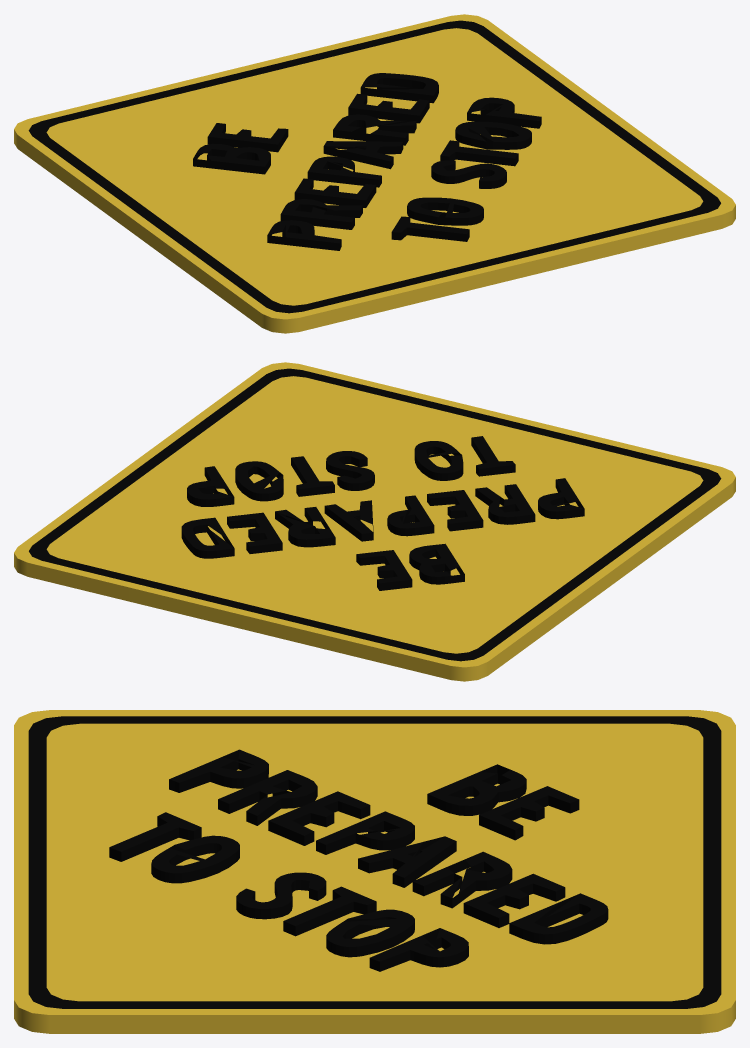
The model's file is be_prepared_to_stop_sign.fbx.
3 views of the same model, one above another, from view 1: azimuth 30°, elevation 25°; view 2: azimuth 150°, elevation 25°; view 3: azimuth 270°, elevation 25° (orthographic). The views are drawn at different scales.
Parts seen in each view (by area): view 1: square_yellow_sign, BePreparedToStop; view 2: square_yellow_sign, BePreparedToStop; view 3: square_yellow_sign, BePreparedToStop.
Part boxes in pixels (x1,y1,x2,y2): square_yellow_sign: [14, 14, 735, 333]; BePreparedToStop: [193, 73, 541, 250]; square_yellow_sign: [14, 362, 735, 681]; BePreparedToStop: [181, 436, 584, 590]; square_yellow_sign: [14, 710, 735, 1033]; BePreparedToStop: [109, 749, 608, 971].
Size of what is drawn, in the model's own units: 70.96 by 3.14 by 70.96.
